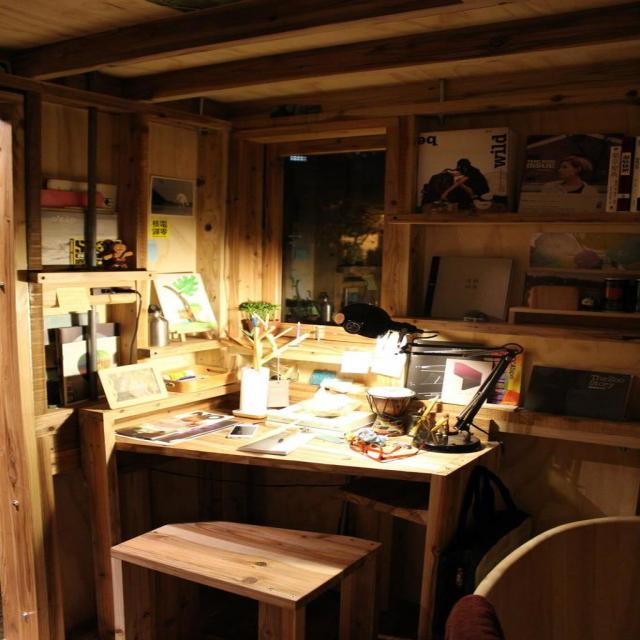chair: (449, 515, 639, 639)
desk: (110, 407, 508, 640)
